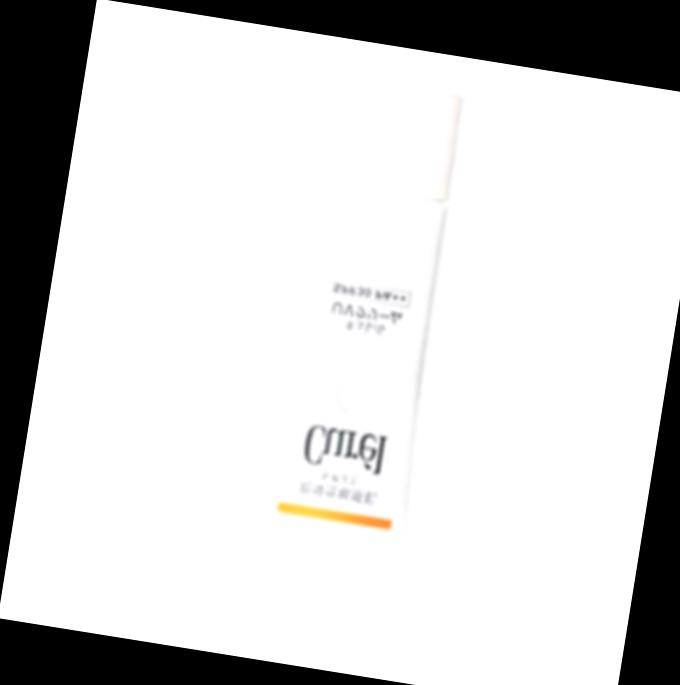cosmetic: (235, 75, 484, 617)
